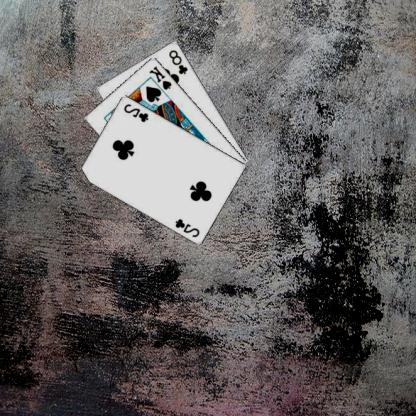2C: (122, 101, 152, 123), (174, 216, 202, 238)
8C: (168, 46, 191, 76)
KS: (148, 63, 175, 91)
